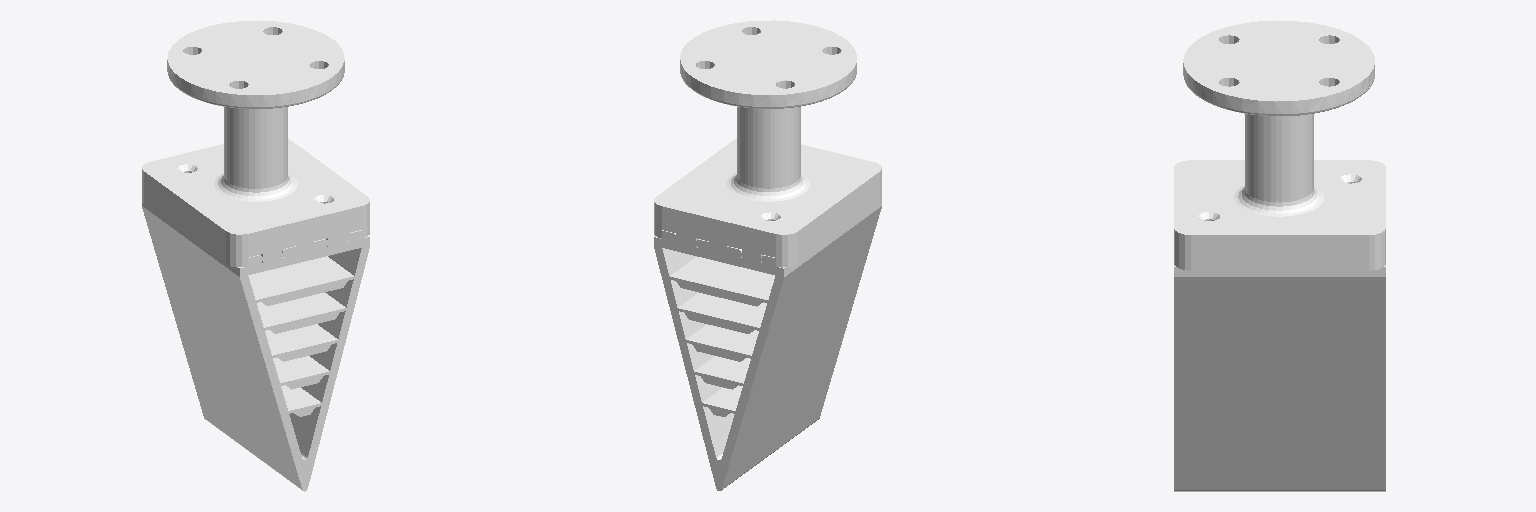
The robot description file, URDF, robot "eend_eff.SLDASM":
<?xml version="1.0" encoding="utf-8"?>
<!-- This URDF was automatically created by SolidWorks to URDF Exporter! Originally created by Stephen Brawner (brawner@gmail.com) 
     Commit Version: 1.6.0-4-g7f85cfe  Build Version: 1.6.7995.38578
     For more information, please see http://wiki.ros.org/sw_urdf_exporter -->
<robot
  name="eend_eff.SLDASM">
  <link
    name="End_effector_soft">
    <inertial>
      <origin
        xyz="-4.513E-05 0.029912 0.024862"
        rpy="0 0 0" />
      <mass
        value="0.04496" />
      <inertia
        ixx="2.7883E-05"
        ixy="-3.0268E-08"
        ixz="4.1966E-08"
        iyy="2.616E-05"
        iyz="8.2218E-08"
        izz="1.8082E-05" />
    </inertial>
    <visual>
      <origin
        xyz="0 0 0"
        rpy="0 0 0" />
      <geometry>
        <mesh
          filename="package://eend_eff.SLDASM/meshes/End_effector_soft.STL" />
      </geometry>
      <material
        name="">
        <color
          rgba="1 1 1 0.35" />
      </material>
    </visual>
    <collision>
      <origin
        xyz="0 0 0"
        rpy="0 0 0" />
      <geometry>
        <mesh
          filename="package://eend_eff.SLDASM/meshes/End_effector_soft.STL" />
      </geometry>
    </collision>
  </link>
  <link
    name="End_effector">
    <inertial>
      <origin
        xyz="-1.876E-05 0.029968 -0.0051099"
        rpy="0 0 0" />
      <mass
        value="0.12362" />
      <inertia
        ixx="9.47E-05"
        ixy="-4.3237E-08"
        ixz="3.8309E-08"
        iyy="7.94E-05"
        iyz="8.2218E-08"
        izz="5.1691E-05" />
    </inertial>
    <visual>
      <origin
        xyz="0 0 0"
        rpy="0 0 0" />
      <geometry>
        <mesh
          filename="package://eend_eff.SLDASM/meshes/End_effector.STL" />
      </geometry>
      <material
        name="">
        <color
          rgba="1 1 1 1" />
      </material>
    </visual>
    <collision>
      <origin
        xyz="0 0 0"
        rpy="0 0 0" />
      <geometry>
        <mesh
          filename="package://eend_eff.SLDASM/meshes/End_effector.STL" />
      </geometry>
    </collision>
  </link>
  <joint
    name="flange"
    type="fixed">
    <origin
      xyz="0 0 0"
      rpy="0 0 0" />
    <parent
      link="End_effector_soft" />
    <child
      link="End_effector" />
    <axis
      xyz="0 0 0" />
  </joint>
</robot>

--- Facts derived from the render (not from the file) ---
The picture shows the robot from 3 angles, left to right: view 1: azimuth 30°, elevation 25°; view 2: azimuth 150°, elevation 25°; view 3: azimuth 270°, elevation 25°; orthographic projection.
Robot: eend_eff.SLDASM — 2 links, 1 joints (1 fixed); root link End_effector_soft; default pose: every joint at zero.
Visible links, largest first — view 1: End_effector, End_effector_soft; view 2: End_effector, End_effector_soft; view 3: End_effector, End_effector_soft.
Link boxes in pixels (x1,y1,x2,y2): End_effector: (142, 202, 369, 491); End_effector_soft: (142, 20, 369, 267); End_effector: (654, 202, 881, 490); End_effector_soft: (654, 20, 881, 267); End_effector: (1174, 265, 1385, 491); End_effector_soft: (1174, 20, 1385, 270).
Bounding box of the posed robot: 0.0541 × 0.06 × 0.1338 m (x, y, z).
2 mesh visuals loaded from 2 distinct referenced files (2 binary STL).
